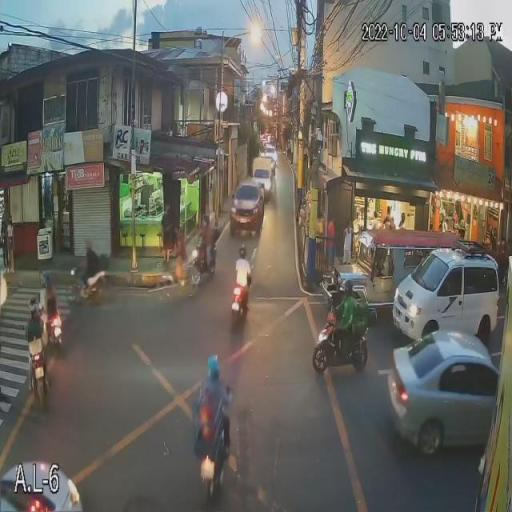helmet: (204, 356, 221, 383), (340, 279, 355, 299), (238, 246, 248, 260), (38, 270, 44, 287), (44, 275, 50, 290), (202, 216, 210, 227)
motorcycle: (315, 312, 375, 370), (196, 411, 232, 500), (22, 342, 48, 403), (35, 293, 63, 347), (192, 242, 218, 289), (231, 282, 250, 320)
rider: (202, 372, 229, 442), (22, 302, 44, 367), (337, 285, 355, 349), (234, 250, 250, 292), (201, 219, 214, 266), (46, 284, 56, 318), (38, 280, 45, 308)
